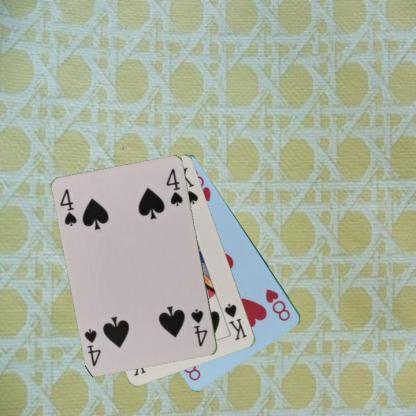4s: (188, 306, 210, 349), (57, 186, 79, 228)
8h: (263, 286, 292, 323)
Ks: (222, 301, 248, 342)
